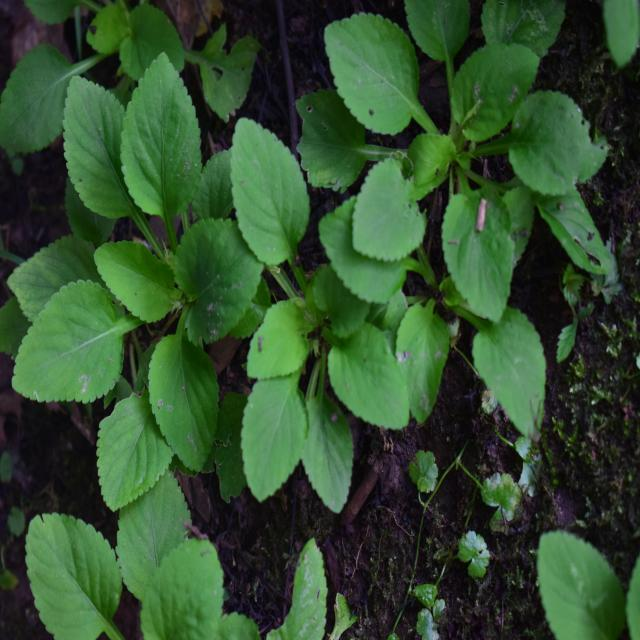Viola: (36, 83, 245, 501), (222, 109, 424, 499)
